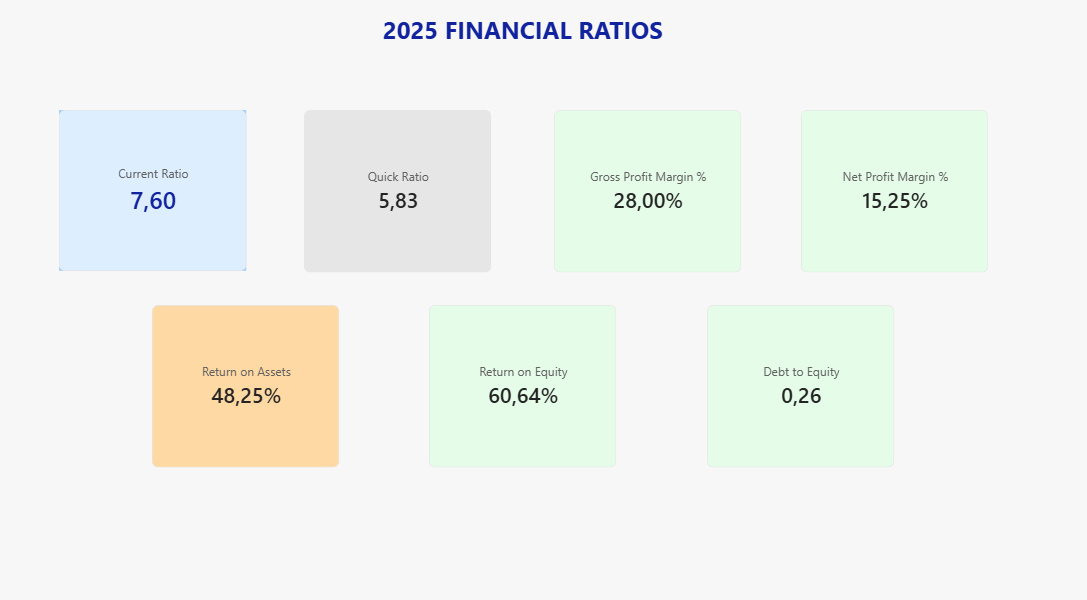

What the dashboard file says about the page in this screenshot:
{"tool":"powerbi","page":{"name":"2025 Financial Ratios","canvas":[1920,1080],"ordinal":5},"visuals":[{"type":"cardVisual","fields":{"Data":["Budget_2025.Current Ratio"]},"box":[339.1,158.5,249.4,214],"z":0},{"type":"cardVisual","fields":{"Data":["Budget_2025.Quick Ratio"]},"box":[665.5,158.5,249.4,216.1],"z":1000},{"type":"cardVisual","fields":{"Data":["financial_ledger_2025.Gross Profit Margin %"]},"box":[997.3,158.6,249.4,216.1],"z":2000},{"type":"cardVisual","fields":{"Data":["financial_ledger_2025.Net Profit Margin %"]},"box":[1326.4,158.5,249.4,216.1],"z":3000},{"type":"cardVisual","fields":{"Data":["Budget_2025.Return on Assets"]},"box":[462.6,417.9,249.4,216.1],"z":4000},{"type":"cardVisual","fields":{"Data":["Budget_2025.Return on Equity"]},"box":[830.8,417.9,249.4,216.1],"z":5000},{"type":"cardVisual","fields":{"Data":["Budget_2025.Debt to Equity"]},"box":[1201.1,417.9,249.4,216.1],"z":6000},{"type":"textbox","box":[0,29.1,1920,72.7],"z":7000}]}

Visuals, with their boxes in screenshot pixels (x1, y1, x2, y2), scaled from the page's 1920x1080 canvas onto the 1087x600 screenshot:
cardVisual - Budget_2025.Current Ratio: locate(192, 88, 333, 207)
cardVisual - Budget_2025.Quick Ratio: locate(377, 88, 518, 208)
cardVisual - financial_ledger_2025.Gross Profit Margin %: locate(565, 88, 706, 208)
cardVisual - financial_ledger_2025.Net Profit Margin %: locate(751, 88, 892, 208)
cardVisual - Budget_2025.Return on Assets: locate(262, 232, 403, 352)
cardVisual - Budget_2025.Return on Equity: locate(470, 232, 612, 352)
cardVisual - Budget_2025.Debt to Equity: locate(680, 232, 821, 352)
textbox: locate(0, 16, 1086, 57)
